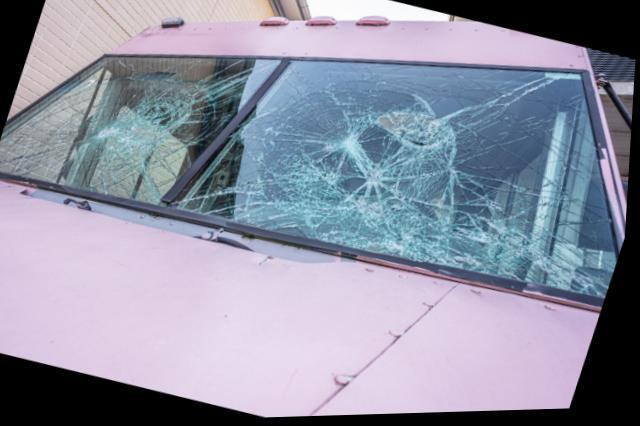glass shatter: (174, 61, 622, 303), (0, 55, 283, 207)
